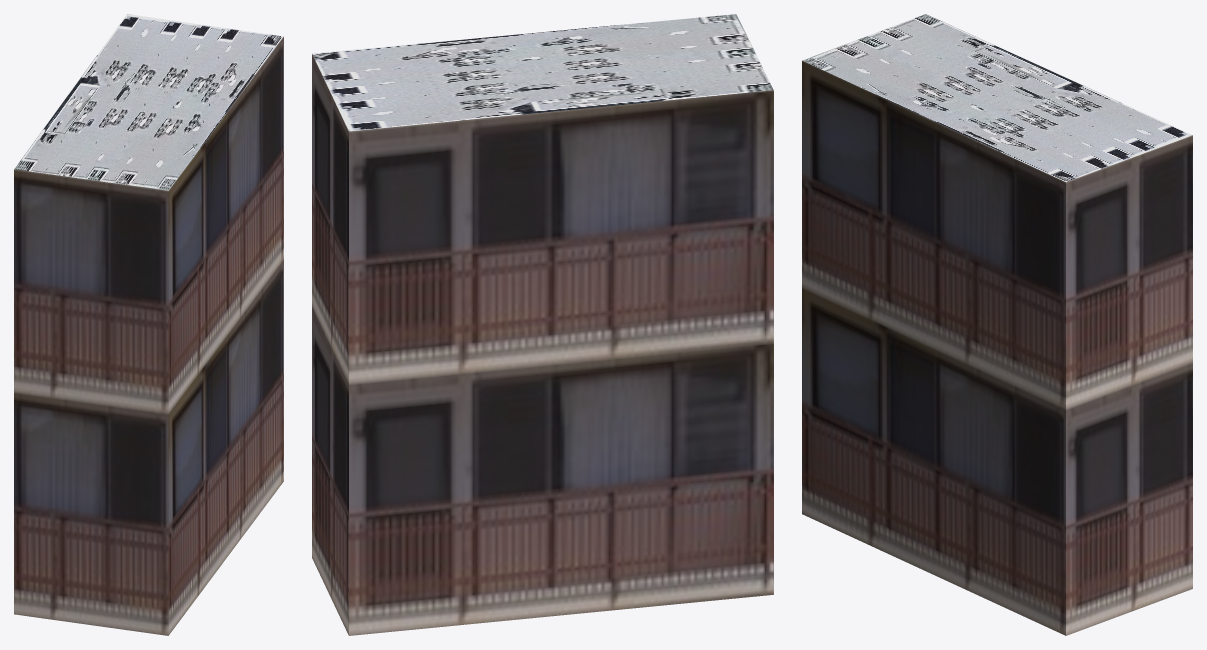
The model's file is ResTex__4741.fbx.
The picture shows the model from 3 angles, left to right: view 1: azimuth 30°, elevation 25°; view 2: azimuth 150°, elevation 25°; view 3: azimuth 270°, elevation 25°; orthographic projection. The views are drawn at different scales.
Parts seen in each view (by area): view 1: CityEngineMaterial_6_m, CityEngineMaterial_8_m; view 2: CityEngineMaterial_6_m, CityEngineMaterial_8_m; view 3: CityEngineMaterial_6_m, CityEngineMaterial_8_m.
Boxes of the visible parts, left/top/right/bottom form: CityEngineMaterial_6_m: left=14, top=37, right=283, bottom=635; CityEngineMaterial_8_m: left=14, top=14, right=283, bottom=190; CityEngineMaterial_6_m: left=312, top=54, right=773, bottom=635; CityEngineMaterial_8_m: left=312, top=14, right=773, bottom=131; CityEngineMaterial_6_m: left=802, top=60, right=1192, bottom=635; CityEngineMaterial_8_m: left=802, top=14, right=1192, bottom=182.
Bounding box in the file's own units: 4.78 × 6 × 4.68.
Materials: 2 (2 with a texture image).
